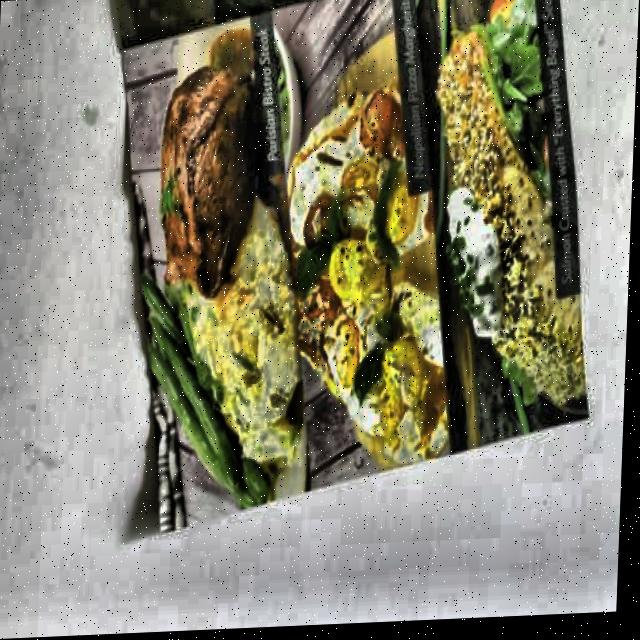paper: (101, 0, 606, 537)
